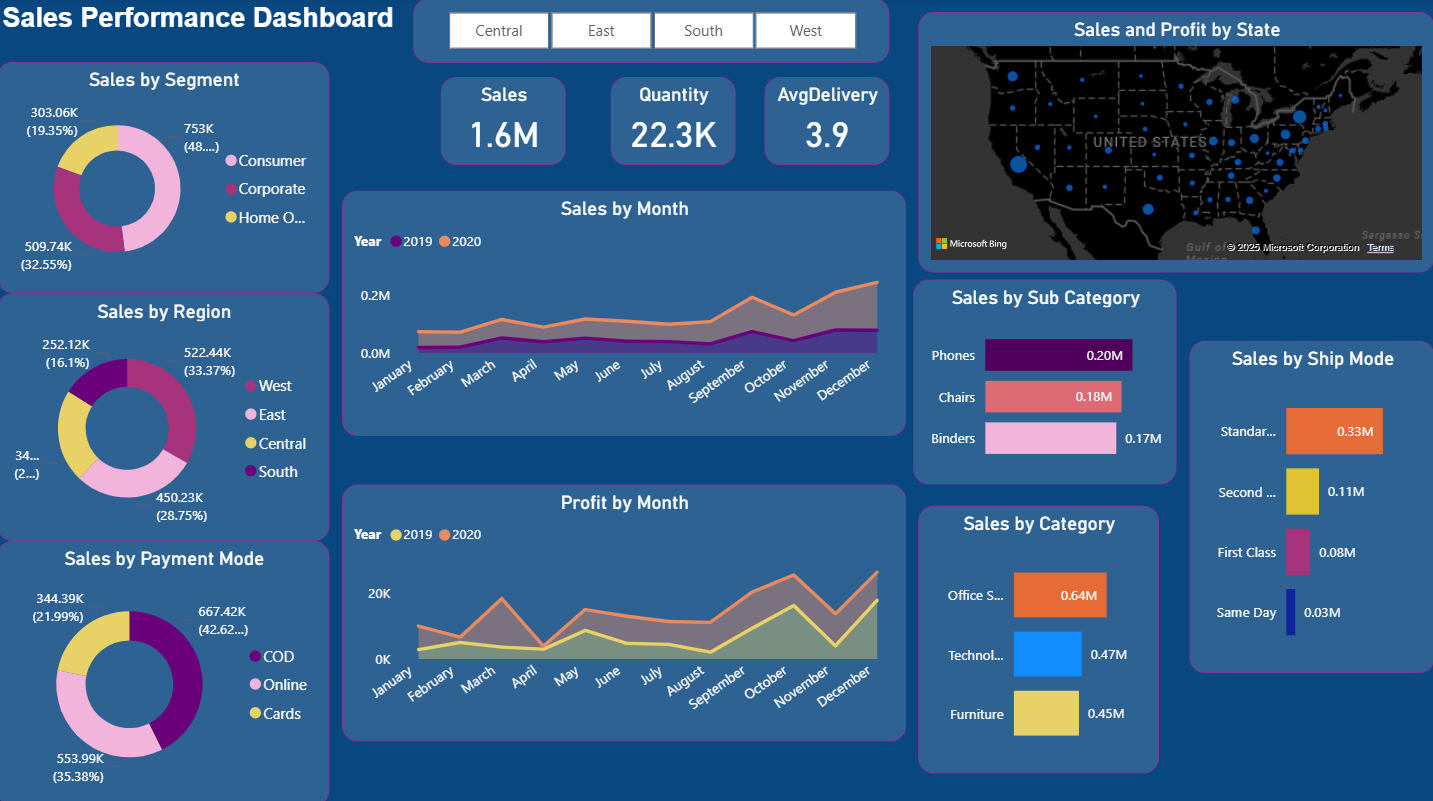

What the dashboard file says about the page in this screenshot:
{"tool":"powerbi","page":{"name":"Page 1","canvas":[1280,720],"ordinal":0},"visuals":[{"type":"clusteredBarChart","title":"Sales by Category","fields":{"Category":["Sheet1.Category"],"Y":["Sum(Sheet1.Sales)"]},"box":[820.6,452.8,214.1,238.8],"z":0},{"type":"clusteredBarChart","title":"Sales by Sub Category","fields":{"Category":["Sheet1.Sub-Category"],"Y":["Sum(Sheet1.Sales)"]},"box":[816.5,251.1,234.6,182.5],"z":1000},{"type":"clusteredBarChart","title":"Sales by Ship Mode","fields":{"Category":["Sheet1.Ship Mode"],"Y":["Sum(Sheet1.Sales)"]},"box":[1062.1,306,218.2,296.4],"z":2000},{"type":"stackedAreaChart","title":" Sales by Month ","fields":{"Category":["Sheet1.Order Date.Variation.Date Hierarchy.Month","Sheet1.Order Date.Variation.Date Hierarchy.Day"],"Y":["Sum(Sheet1.Sales)"],"Series":["Sheet1.Order Date.Variation.Date Hierarchy.Year"]},"box":[307.4,172.9,502.2,218.2],"z":3000},{"type":"stackedAreaChart","title":"Profit by Month","fields":{"Category":["Sheet1.Order Date.Variation.Date Hierarchy.Month","Sheet1.Order Date.Variation.Date Hierarchy.Day"],"Series":["Sheet1.Order Date.Variation.Date Hierarchy.Year"],"Y":["Sum(Sheet1.Profit)"]},"box":[307.4,433.6,502.2,229.2],"z":4000},{"type":"map","title":"Sales and Profit by State","fields":{"Category":["Sheet1.State"],"Size":["Sum(Sheet1.Sales)"]},"box":[820.6,13.7,459.7,231.9],"z":5000},{"type":"donutChart","title":"Sales by Segment","fields":{"Category":["Sheet1.Segment"],"Y":["Sum(Sheet1.Sales)"]},"box":[0,57.6,296.4,205.8],"z":6000},{"type":"donutChart","title":" Sales by Payment Mode","fields":{"Category":["Sheet1.Payment Mode"],"Y":["Sum(Sheet1.Sales)"]},"box":[0,484.4,296.4,236],"z":7000},{"type":"donutChart","title":"Sales by Region","fields":{"Category":["Sheet1.Region"],"Y":["Sum(Sheet1.Sales)"]},"box":[0,263.5,296.4,220.9],"z":8000},{"type":"slicer","fields":{"Values":["Sheet1.Region"]},"box":[370.5,1.4,424,57.6],"z":9000},{"type":"textbox","box":[0,0,370.5,57.6],"z":10000},{"type":"card","title":"Sales","fields":{"Values":["Sum(Sheet1.Sales)"]},"box":[395.2,71.4,111.1,78.2],"z":11000},{"type":"card","title":"Quantity","fields":{"Values":["Sum(Sheet1.Quantity)"]},"box":[546.1,71.4,111.1,78.2],"z":12000},{"type":"card","title":"AvgDelivery","fields":{"Values":["Avg(Sheet1.AvgDelivery)"]},"box":[683.4,71.4,111.1,78.2],"z":13000}]}

Visuals, with their boxes in screenshot pixels (x1, y1, x2, y2), scaled from the page's 1280x720 canvas onto the 1433x801 screenshot:
"Sales by Category" clusteredBarChart: (left=919, top=504, right=1158, bottom=769)
"Sales by Sub Category" clusteredBarChart: (left=914, top=279, right=1177, bottom=482)
"Sales by Ship Mode" clusteredBarChart: (left=1189, top=340, right=1432, bottom=670)
" Sales by Month " stackedAreaChart: (left=344, top=192, right=906, bottom=435)
"Profit by Month" stackedAreaChart: (left=344, top=482, right=906, bottom=737)
"Sales and Profit by State" map: (left=919, top=15, right=1432, bottom=273)
"Sales by Segment" donutChart: (left=0, top=64, right=332, bottom=293)
" Sales by Payment Mode" donutChart: (left=0, top=539, right=332, bottom=800)
"Sales by Region" donutChart: (left=0, top=293, right=332, bottom=539)
slicer - Sheet1.Region: (left=415, top=2, right=889, bottom=66)
textbox: (left=0, top=0, right=415, bottom=64)
"Sales" card: (left=442, top=79, right=567, bottom=166)
"Quantity" card: (left=611, top=79, right=736, bottom=166)
"AvgDelivery" card: (left=765, top=79, right=889, bottom=166)
